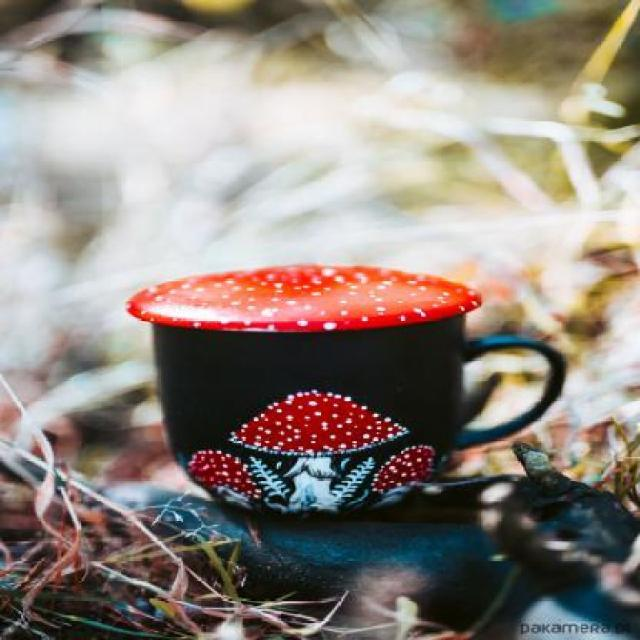cup: (115, 255, 581, 530)
